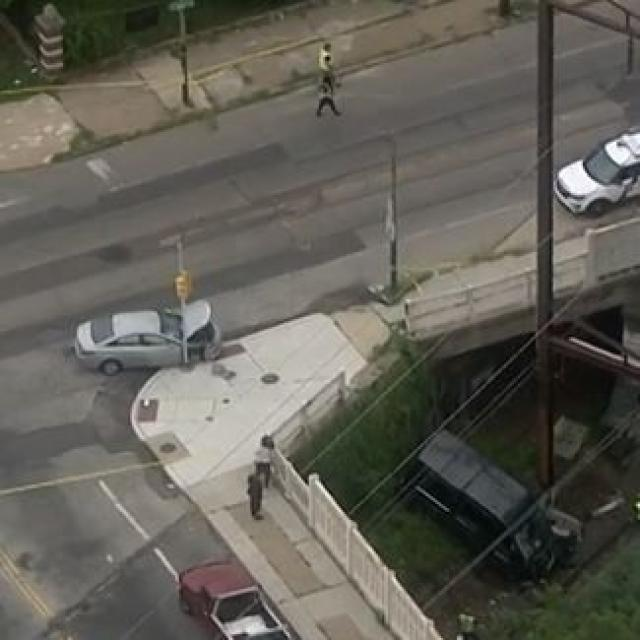traffic_incident: (67, 292, 219, 366)
